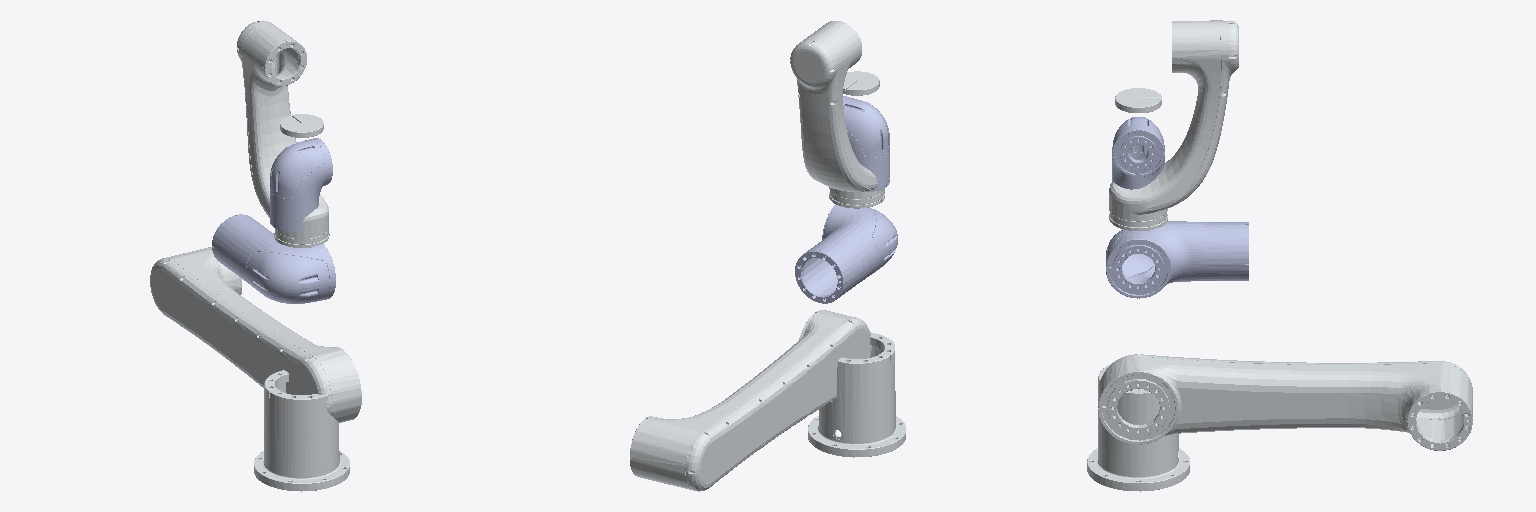
The robot description file, URDF, robot "arm1":
<?xml version="1.0" encoding="utf-8"?>
<!-- This URDF was automatically created by SolidWorks to URDF Exporter! Originally created by [author] ([email redacted]) 
     Commit Version: 1.6.0-1-g15f4949  Build Version: 1.6.7594.29634
     For more information, please see http://wiki.ros.org/sw_urdf_exporter -->
<robot
  name="arm1">
  <link
    name="base_link">
    <inertial>
      <origin
        xyz="-1.2717E-09 -0.0002019 0.03962"
        rpy="0 0 0" />
      <mass
        value="0.20694" />
      <inertia
        ixx="0.00032183"
        ixy="-5.3729E-08"
        ixz="-8.9527E-11"
        iyy="0.00032289"
        iyz="-7.6451E-07"
        izz="0.00019377" />
    </inertial>
    <visual>
      <origin
        xyz="0 0 0"
        rpy="0 0 0" />
      <geometry>
        <mesh
          filename="package://ti5_urdf/meshes/arm1/base_link.STL" />
      </geometry>
      <material
        name="">
        <color
          rgba="0.89804 0.91765 0.92941 1" />
      </material>
    </visual>
    <collision>
      <origin
        xyz="0 0 0"
        rpy="0 0 0" />
      <geometry>
        <mesh
          filename="package://ti5_urdf/meshes/arm1/base_link.STL" />
      </geometry>
    </collision>
  </link>
  <link
    name="A_Link">
    <inertial>
      <origin
        xyz="0.029013 3.1585E-06 0.030656"
        rpy="0 0 0" />
      <mass
        value="0.17006" />
      <inertia
        ixx="0.00014682"
        ixy="7.8151E-09"
        ixz="-5.421E-05"
        iyy="0.00020934"
        iyz="-1.9182E-08"
        izz="0.00020415" />
    </inertial>
    <visual>
      <origin
        xyz="0 0 0"
        rpy="0 0 0" />
      <geometry>
        <mesh
          filename="package://ti5_urdf/meshes/arm1/A_Link.STL" />
      </geometry>
      <material
        name="">
        <color
          rgba="0.79216 0.81961 0.93333 1" />
      </material>
    </visual>
    <collision>
      <origin
        xyz="0 0 0"
        rpy="0 0 0" />
      <geometry>
        <mesh
          filename="package://ti5_urdf/meshes/arm1/A_Link.STL" />
      </geometry>
    </collision>
  </link>
  <joint
    name="A"
    type="revolute">
    <origin
      xyz="-0.00018059 0 0.097"
      rpy="0 0 0" />
    <parent
      link="base_link" />
    <child
      link="A_Link" />
    <axis
      xyz="0 0 -1" />
    <limit
      lower="-3.14"
      upper="3.14"
      effort="0"
      velocity="0" />
  </joint>
  <link
    name="B_Link">
    <inertial>
      <origin
        xyz="1.7474E-06 0.11028 0.0067642"
        rpy="0 0 0" />
      <mass
        value="0.25215" />
      <inertia
        ixx="0.0018313"
        ixy="-9.1439E-09"
        ixz="-1.1859E-09"
        iyy="0.00014331"
        iyz="0.00013472"
        izz="0.0018654" />
    </inertial>
    <visual>
      <origin
        xyz="0 0 0"
        rpy="0 0 0" />
      <geometry>
        <mesh
          filename="package://ti5_urdf/meshes/arm1/B_Link.STL" />
      </geometry>
      <material
        name="">
        <color
          rgba="0.89804 0.91765 0.92941 1" />
      </material>
    </visual>
    <collision>
      <origin
        xyz="0 0 0"
        rpy="0 0 0" />
      <geometry>
        <mesh
          filename="package://ti5_urdf/meshes/arm1/B_Link.STL" />
      </geometry>
    </collision>
  </link>
  <joint
    name="B"
    type="revolute">
    <origin
      xyz="0.076181 0 0.039711"
      rpy="1.5708 0 1.5708" />
    <parent
      link="A_Link" />
    <child
      link="B_Link" />
    <axis
      xyz="0 0 -1" />
    <limit
      lower="-1.9"
      upper="1.9"
      effort="0"
      velocity="0" />
  </joint>
  <link
    name="C_Link">
    <inertial>
      <origin
        xyz="-4.9653E-06 -0.026863 0.027126"
        rpy="0 0 0" />
      <mass
        value="0.1028" />
      <inertia
        ixx="9.5672E-05"
        ixy="4.2051E-09"
        ixz="2.2694E-08"
        iyy="6.2054E-05"
        iyz="2.6805E-05"
        izz="8.7384E-05" />
    </inertial>
    <visual>
      <origin
        xyz="0 0 0"
        rpy="0 0 0" />
      <geometry>
        <mesh
          filename="package://ti5_urdf/meshes/arm1/C_Link.STL" />
      </geometry>
      <material
        name="">
        <color
          rgba="0.79216 0.81961 0.93333 1" />
      </material>
    </visual>
    <collision>
      <origin
        xyz="0 0 0"
        rpy="0 0 0" />
      <geometry>
        <mesh
          filename="package://ti5_urdf/meshes/arm1/C_Link.STL" />
      </geometry>
    </collision>
  </link>
  <joint
    name="C"
    type="revolute">
    <origin
      xyz="0 0.21038 -0.041"
      rpy="-3.1416 0 0" />
    <parent
      link="B_Link" />
    <child
      link="C_Link" />
    <axis
      xyz="0 0 -1" />
    <limit
      lower="-2.86"
      upper="2.86"
      effort="0"
      velocity="0" />
  </joint>
  <link
    name="D_Link">
    <inertial>
      <origin
        xyz="0.043748 -1.4463E-06 0.059027"
        rpy="0 0 0" />
      <mass
        value="0.24635" />
      <inertia
        ixx="0.00049775"
        ixy="6.0303E-09"
        ixz="-0.0002222"
        iyy="0.00066058"
        iyz="-1.5951E-08"
        izz="0.00028236" />
    </inertial>
    <visual>
      <origin
        xyz="0 0 0"
        rpy="0 0 0" />
      <geometry>
        <mesh
          filename="package://ti5_urdf/meshes/arm1/D_Link.STL" />
      </geometry>
      <material
        name="">
        <color
          rgba="0.89804 0.91765 0.92941 1" />
      </material>
    </visual>
    <collision>
      <origin
        xyz="0 0 0"
        rpy="0 0 0" />
      <geometry>
        <mesh
          filename="package://ti5_urdf/meshes/arm1/D_Link.STL" />
      </geometry>
    </collision>
  </link>
  <joint
    name="D"
    type="revolute">
    <origin
      xyz="0 -0.065909 0.035"
      rpy="1.5708 1.5708 0" />
    <parent
      link="C_Link" />
    <child
      link="D_Link" />
    <axis
      xyz="0 0 1" />
    <limit
      lower="-3.14"
      upper="3.14"
      effort="0"
      velocity="0" />
  </joint>
  <link
    name="E_Link">
    <inertial>
      <origin
        xyz="-0.026863 4.965E-06 0.027126"
        rpy="0 0 0" />
      <mass
        value="0.1028" />
      <inertia
        ixx="6.2054E-05"
        ixy="-4.2051E-09"
        ixz="2.6805E-05"
        iyy="9.5672E-05"
        iyz="-2.2694E-08"
        izz="8.7384E-05" />
    </inertial>
    <visual>
      <origin
        xyz="0 0 0"
        rpy="0 0 0" />
      <geometry>
        <mesh
          filename="package://ti5_urdf/meshes/arm1/E_Link.STL" />
      </geometry>
      <material
        name="">
        <color
          rgba="0.79216 0.81961 0.93333 1" />
      </material>
    </visual>
    <collision>
      <origin
        xyz="0 0 0"
        rpy="0 0 0" />
      <geometry>
        <mesh
          filename="package://ti5_urdf/meshes/arm1/E_Link.STL" />
      </geometry>
    </collision>
  </link>
  <joint
    name="E"
    type="revolute">
    <origin
      xyz="0.035 -9.0665E-05 0.124"
      rpy="-1.5708 1.5708 1.5708" />
    <parent
      link="D_Link" />
    <child
      link="E_Link" />
    <axis
      xyz="0 0 -1" />
    <limit
      lower="-2.9"
      upper="2.9"
      effort="0"
      velocity="0" />
  </joint>
  <link
    name="F_Link">
    <inertial>
      <origin
        xyz="-7.3069E-05 -6.524E-11 0.0024856"
        rpy="0 0 0" />
      <mass
        value="0.0093944" />
      <inertia
        ixx="5.4913E-07"
        ixy="7.475E-15"
        ixz="1.0861E-09"
        iyy="5.4216E-07"
        iyz="4.6867E-16"
        izz="1.0527E-06" />
    </inertial>
    <visual>
      <origin
        xyz="0 0 0"
        rpy="0 0 0" />
      <geometry>
        <mesh
          filename="package://ti5_urdf/meshes/arm1/F_Link.STL" />
      </geometry>
      <material
        name="">
        <color
          rgba="0.89804 0.91765 0.92941 1" />
      </material>
    </visual>
    <collision>
      <origin
        xyz="0 0 0"
        rpy="0 0 0" />
      <geometry>
        <mesh
          filename="package://ti5_urdf/meshes/arm1/F_Link.STL" />
      </geometry>
    </collision>
  </link>
  <joint
    name="F"
    type="revolute">
    <origin
      xyz="-0.065909 0 0.035"
      rpy="3.1416 1.5708 0" />
    <parent
      link="E_Link" />
    <child
      link="F_Link" />
    <axis
      xyz="0 0 1" />
    <limit
      lower="-3.14"
      upper="3.14"
      effort="0"
      velocity="0" />
  </joint>
</robot>

--- Render facts (derived) ---
Views: 3 orthographic renders of the robot side by side, from view 1: azimuth 30°, elevation 25°; view 2: azimuth 150°, elevation 25°; view 3: azimuth 270°, elevation 25°.
Robot: arm1 — 7 links, 6 joints (6 revolute); root link base_link; default pose: all joints at 0.
Visible links, largest first — view 1: B_Link, D_Link, base_link, C_Link, E_Link, F_Link; view 2: B_Link, D_Link, base_link, C_Link, E_Link, F_Link; view 3: B_Link, D_Link, C_Link, base_link, E_Link, F_Link.
Boxes of the visible links, x1,y1,x2,y2 form: B_Link: (150,247,361,422); D_Link: (237,20,329,247); base_link: (254,370,349,491); C_Link: (212,214,335,303); E_Link: (270,138,332,231); F_Link: (280,114,323,137); B_Link: (630,310,871,491); D_Link: (790,21,884,208); base_link: (808,332,905,457); C_Link: (795,204,897,303); E_Link: (843,96,889,191); F_Link: (843,71,879,95); B_Link: (1098,354,1472,450); D_Link: (1109,20,1238,230); C_Link: (1106,221,1248,298); base_link: (1087,364,1189,491); E_Link: (1112,117,1164,189); F_Link: (1115,88,1161,112).
Size in the robot's own frame: 0.1989 by 0.576 by 0.736 metres.
Meshes: 7 distinct files referenced, 6 mesh visuals loaded (6 binary STL); not drawn: 1 (reference not matched to a file when rendering).